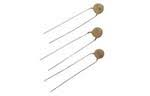ceramic capacitor: (79, 1, 113, 22), (84, 23, 112, 45), (87, 47, 114, 68)
